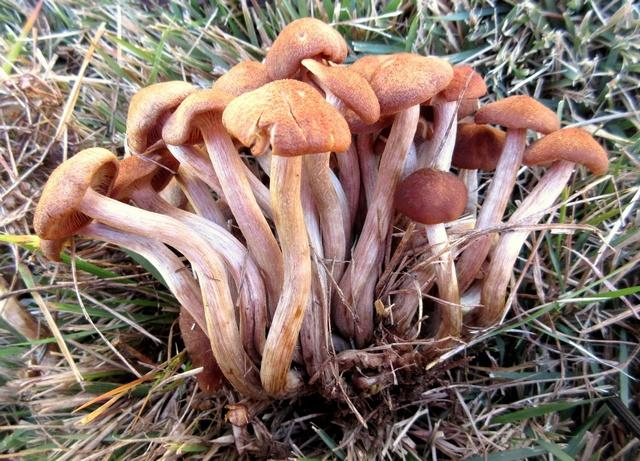Edible Mushroom: (32, 16, 608, 400)
